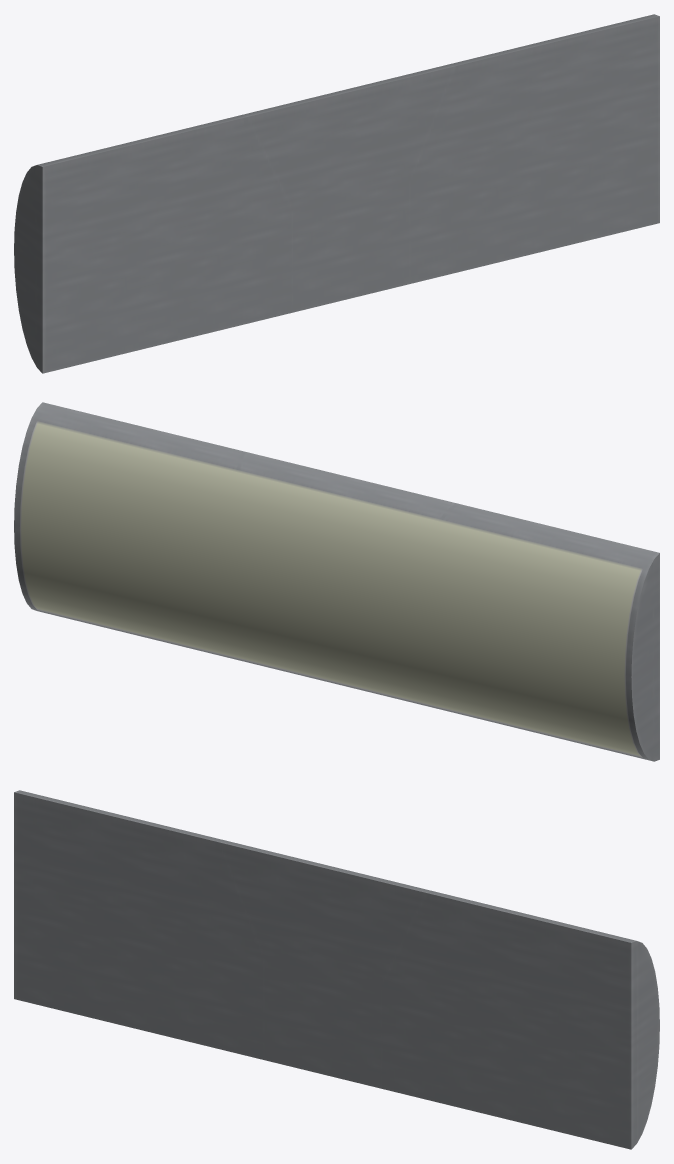
Rendered from station lamp 4.fbx.
The picture shows the model from 3 angles, top to bottom: view 1: azimuth 30°, elevation 25°; view 2: azimuth 150°, elevation 25°; view 3: azimuth 330°, elevation 25°; orthographic projection.
Visible parts, largest first — view 1: lamp 4_low; view 2: lamp 4_low; view 3: lamp 4_low.
Part boxes in pixels (left/top/right/bottom): lamp 4_low: left=14, top=14, right=659, bottom=373; lamp 4_low: left=14, top=402, right=659, bottom=761; lamp 4_low: left=14, top=790, right=659, bottom=1149.
Size of the model in its own units: 4 by 50 by 16.
